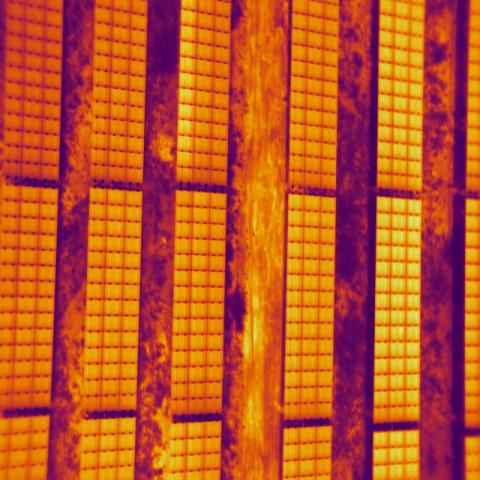fault: (177, 0, 198, 167)
